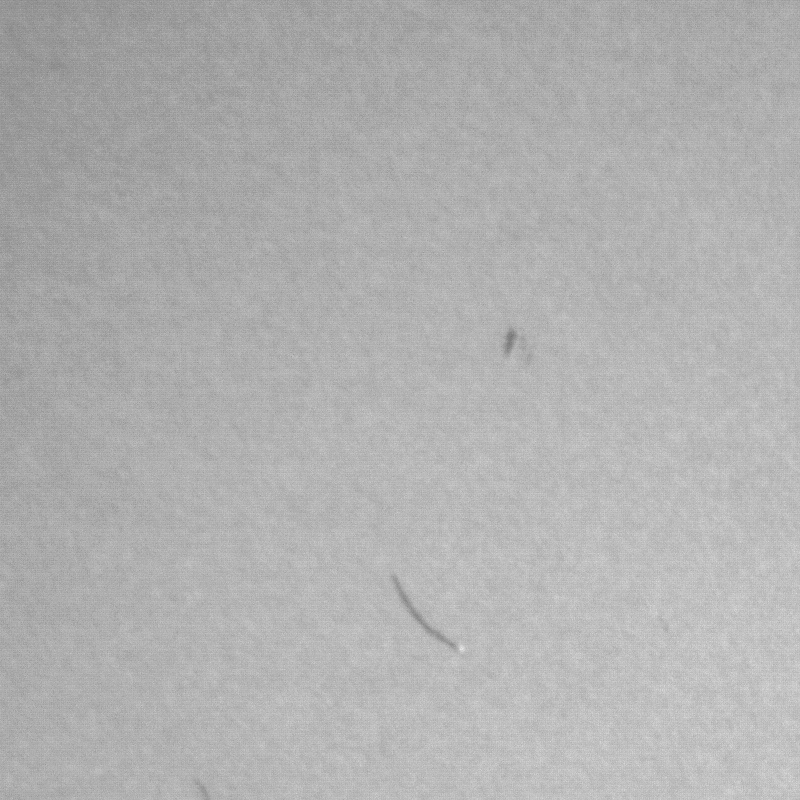defect: (396, 576, 466, 658), (506, 327, 531, 373), (195, 779, 212, 798)
